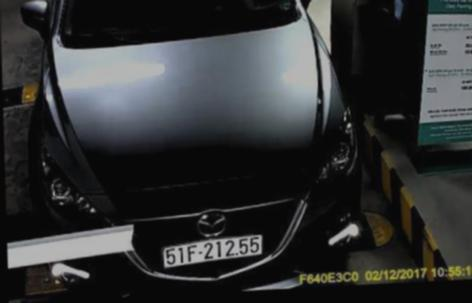License_Plate: (160, 235, 262, 265)
